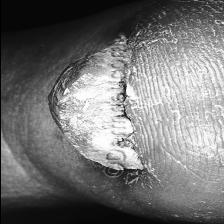Toxin: (42, 47, 106, 174), (126, 46, 142, 174)
